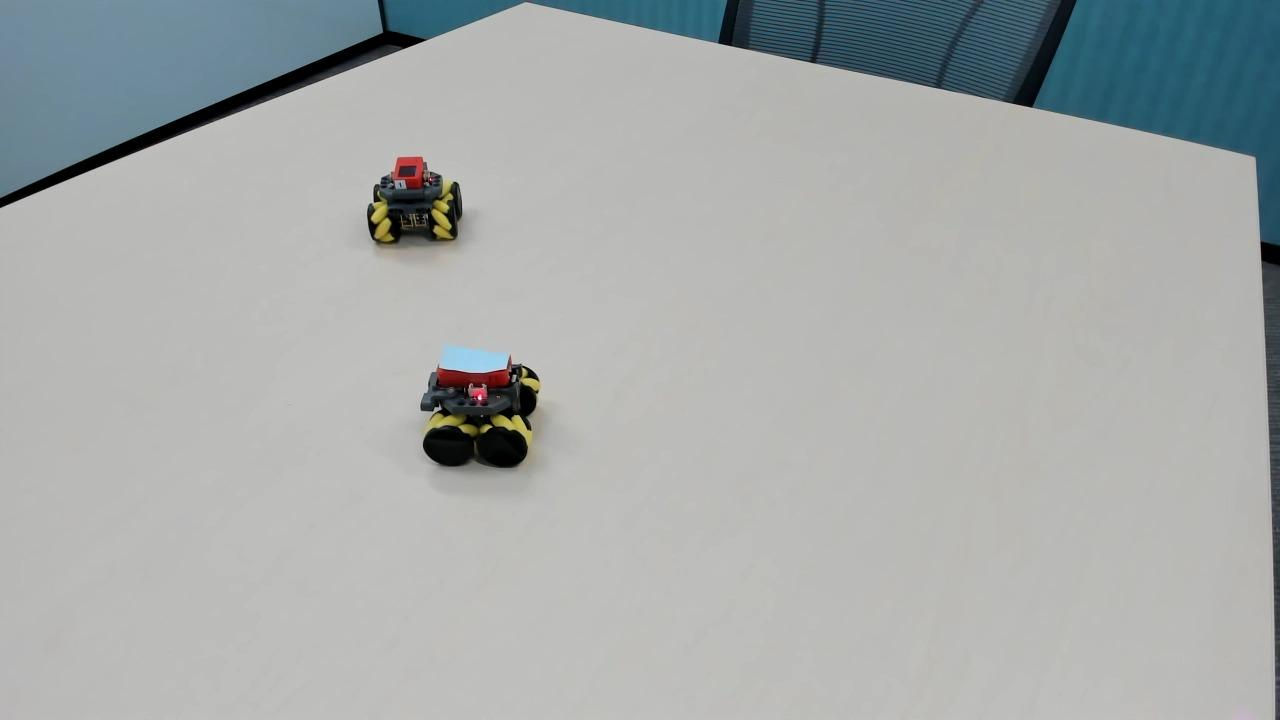B-Robot: (405, 332, 554, 480)
R-Robot: (361, 149, 473, 255)
